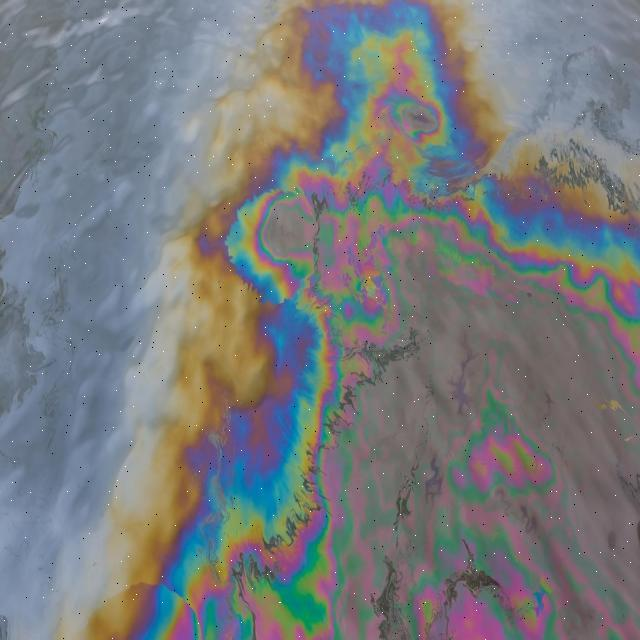rainbow: (161, 1, 640, 639)
